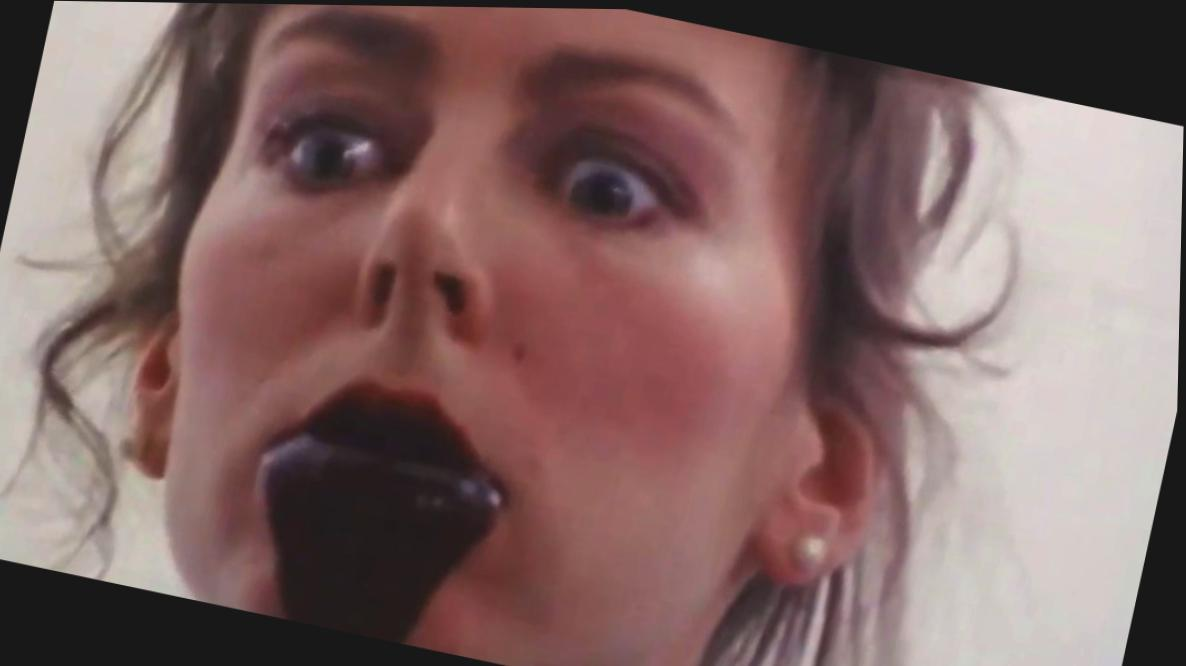Fire: (254, 379, 510, 643)
